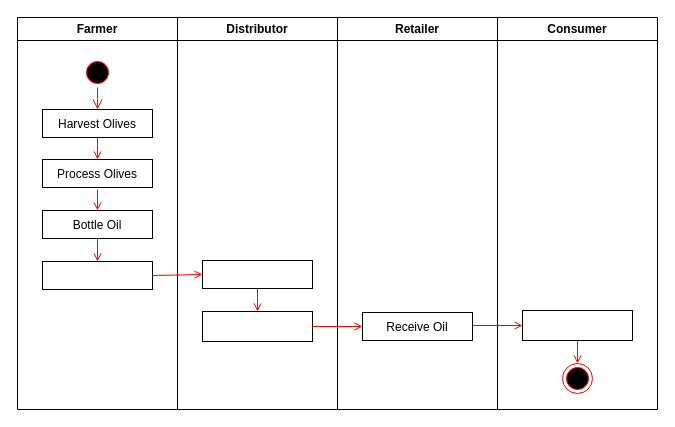
Some shapes in this 675 by 427 pixel diagram are drawn without their labels. Each missing label, with the centre of its shape:
Buy Oil: (x=257, y=274)
Purchase Oil: (x=577, y=325)
Sell Oil: (x=97, y=275)
Ship Oil: (x=257, y=326)
